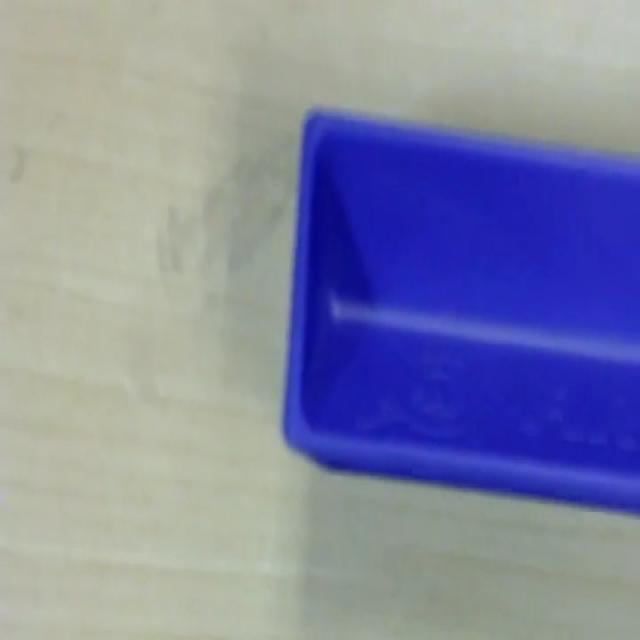blue_block: (282, 104, 640, 515)
